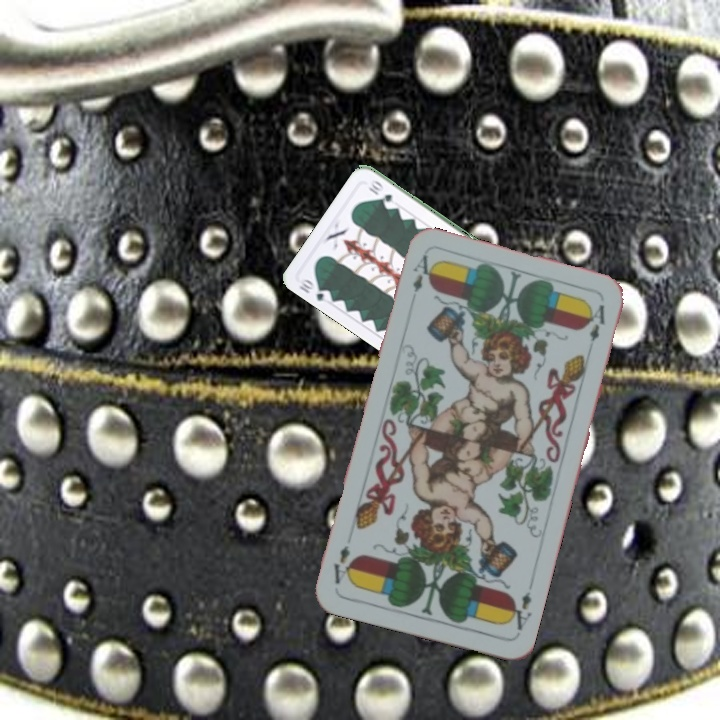EA: (504, 587, 534, 633), (408, 250, 434, 295)
G10: (295, 274, 334, 305)
